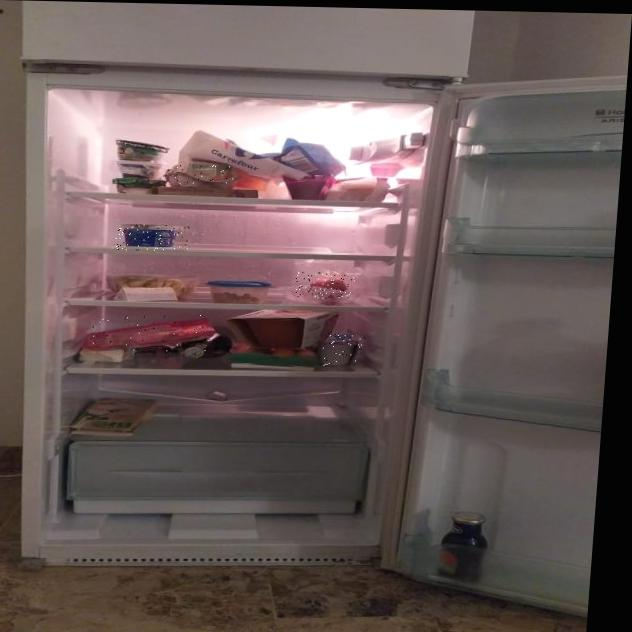butter: (78, 347, 126, 364)
eggs: (165, 164, 237, 187), (295, 273, 355, 300)
ham: (86, 313, 214, 353)
yoghurt: (115, 224, 189, 252), (320, 334, 365, 368)
